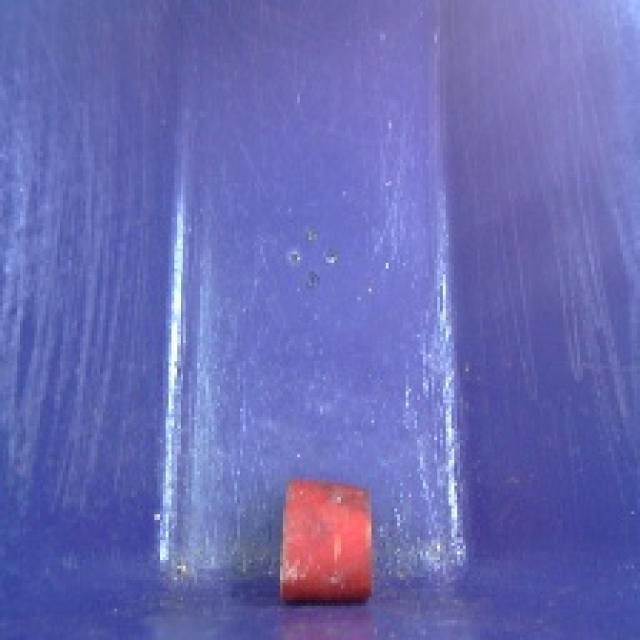carrots: (268, 468, 385, 615)
